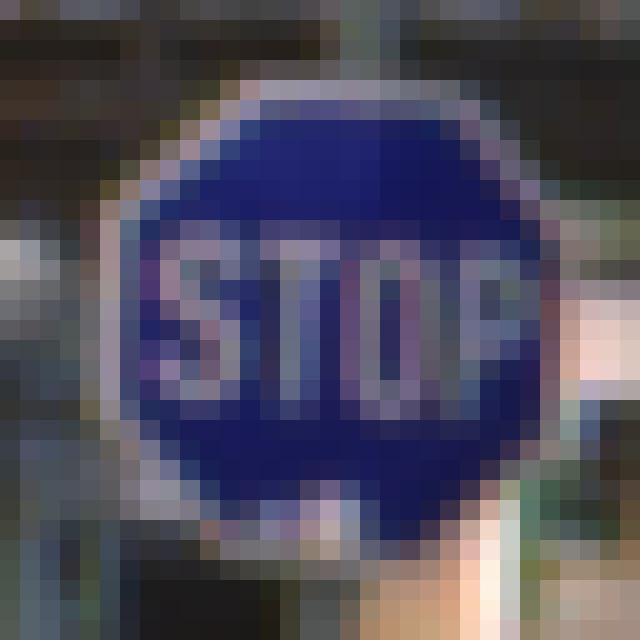STOP: (99, 87, 564, 570)
